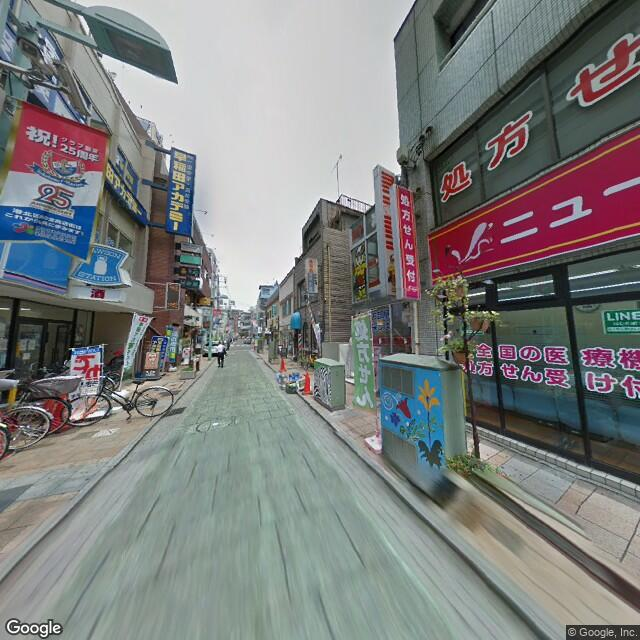lawson: (74, 240, 128, 295)
